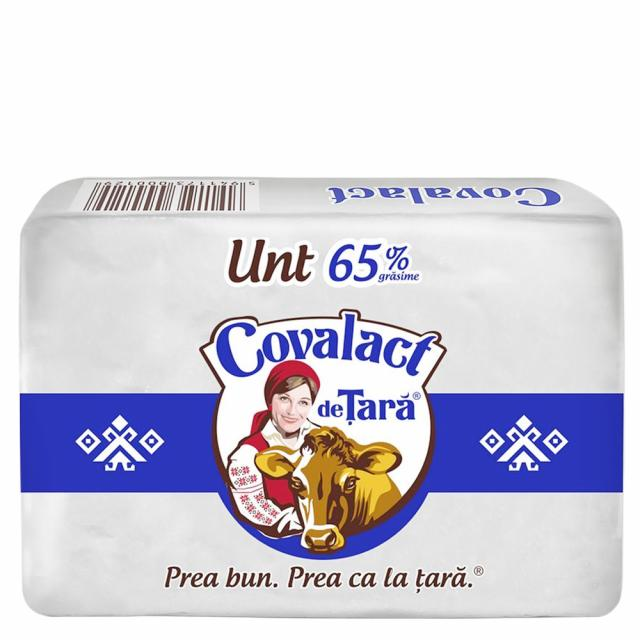butter: (19, 176, 624, 617)
